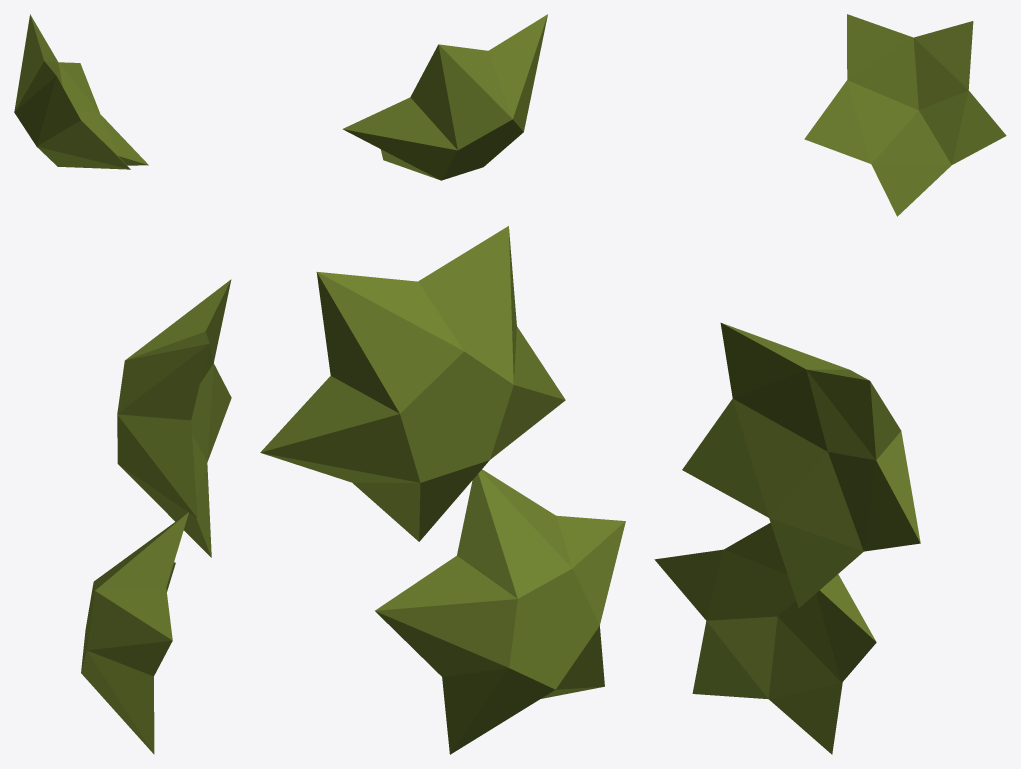
The picture shows the model from 3 angles, left to right: view 1: azimuth 30°, elevation 25°; view 2: azimuth 150°, elevation 25°; view 3: azimuth 270°, elevation 25°; orthographic projection. The views are drawn at different scales.
Visible parts, largest first — view 1: Box15919_green2_0, Box15916_green2_0, Box15924_green2_0; view 2: Box15919_green2_0, Box15916_green2_0, Box15924_green2_0; view 3: Box15919_green2_0, Box15916_green2_0, Box15924_green2_0.
Boxes of the visible parts, box(x1,y1,x2,y2) form: Box15919_green2_0: box(117, 279, 231, 557); Box15916_green2_0: box(81, 512, 188, 754); Box15924_green2_0: box(14, 14, 148, 169); Box15919_green2_0: box(260, 226, 565, 541); Box15916_green2_0: box(375, 469, 625, 754); Box15924_green2_0: box(342, 14, 547, 180); Box15919_green2_0: box(682, 323, 920, 607); Box15916_green2_0: box(654, 523, 876, 754); Box15924_green2_0: box(804, 14, 1006, 216).
Bounding box in the file's own units: 126 × 371 × 168.
